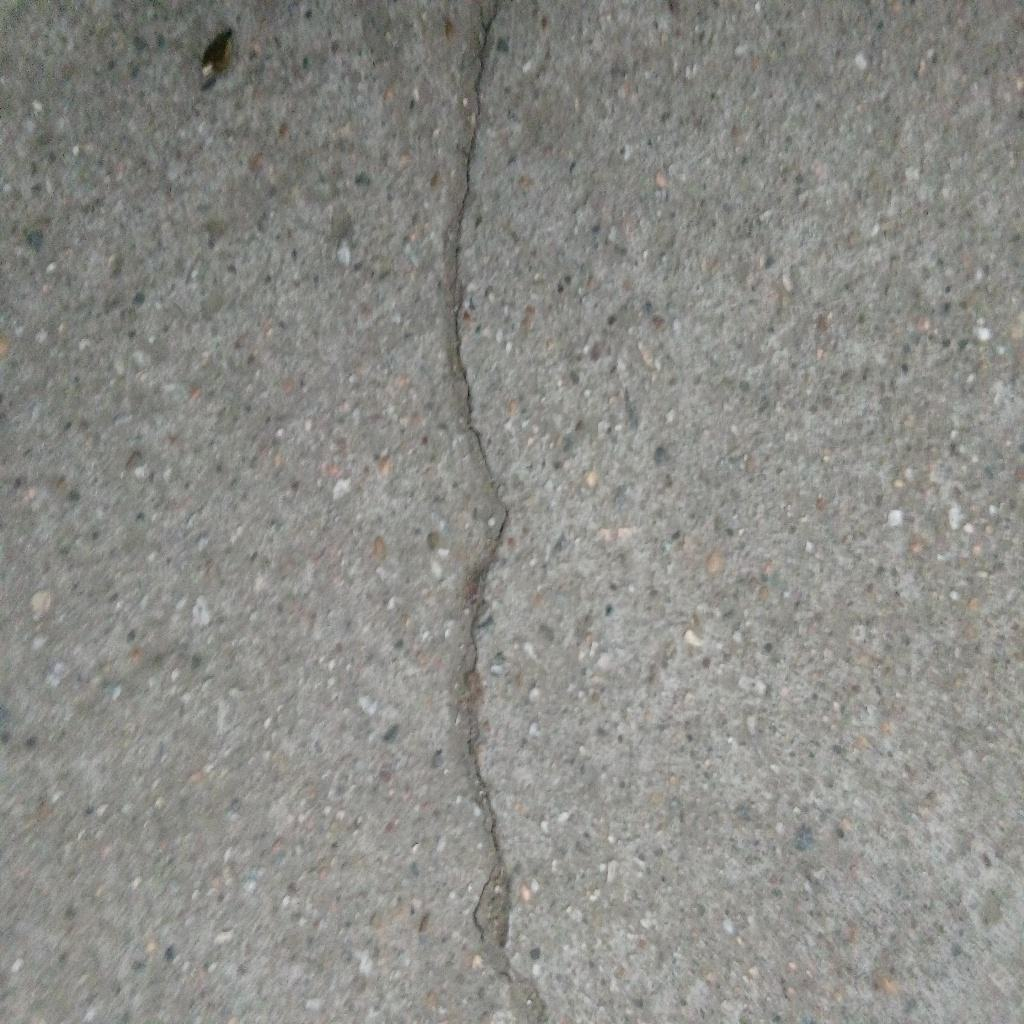Crack: (446, 1, 549, 1024)
